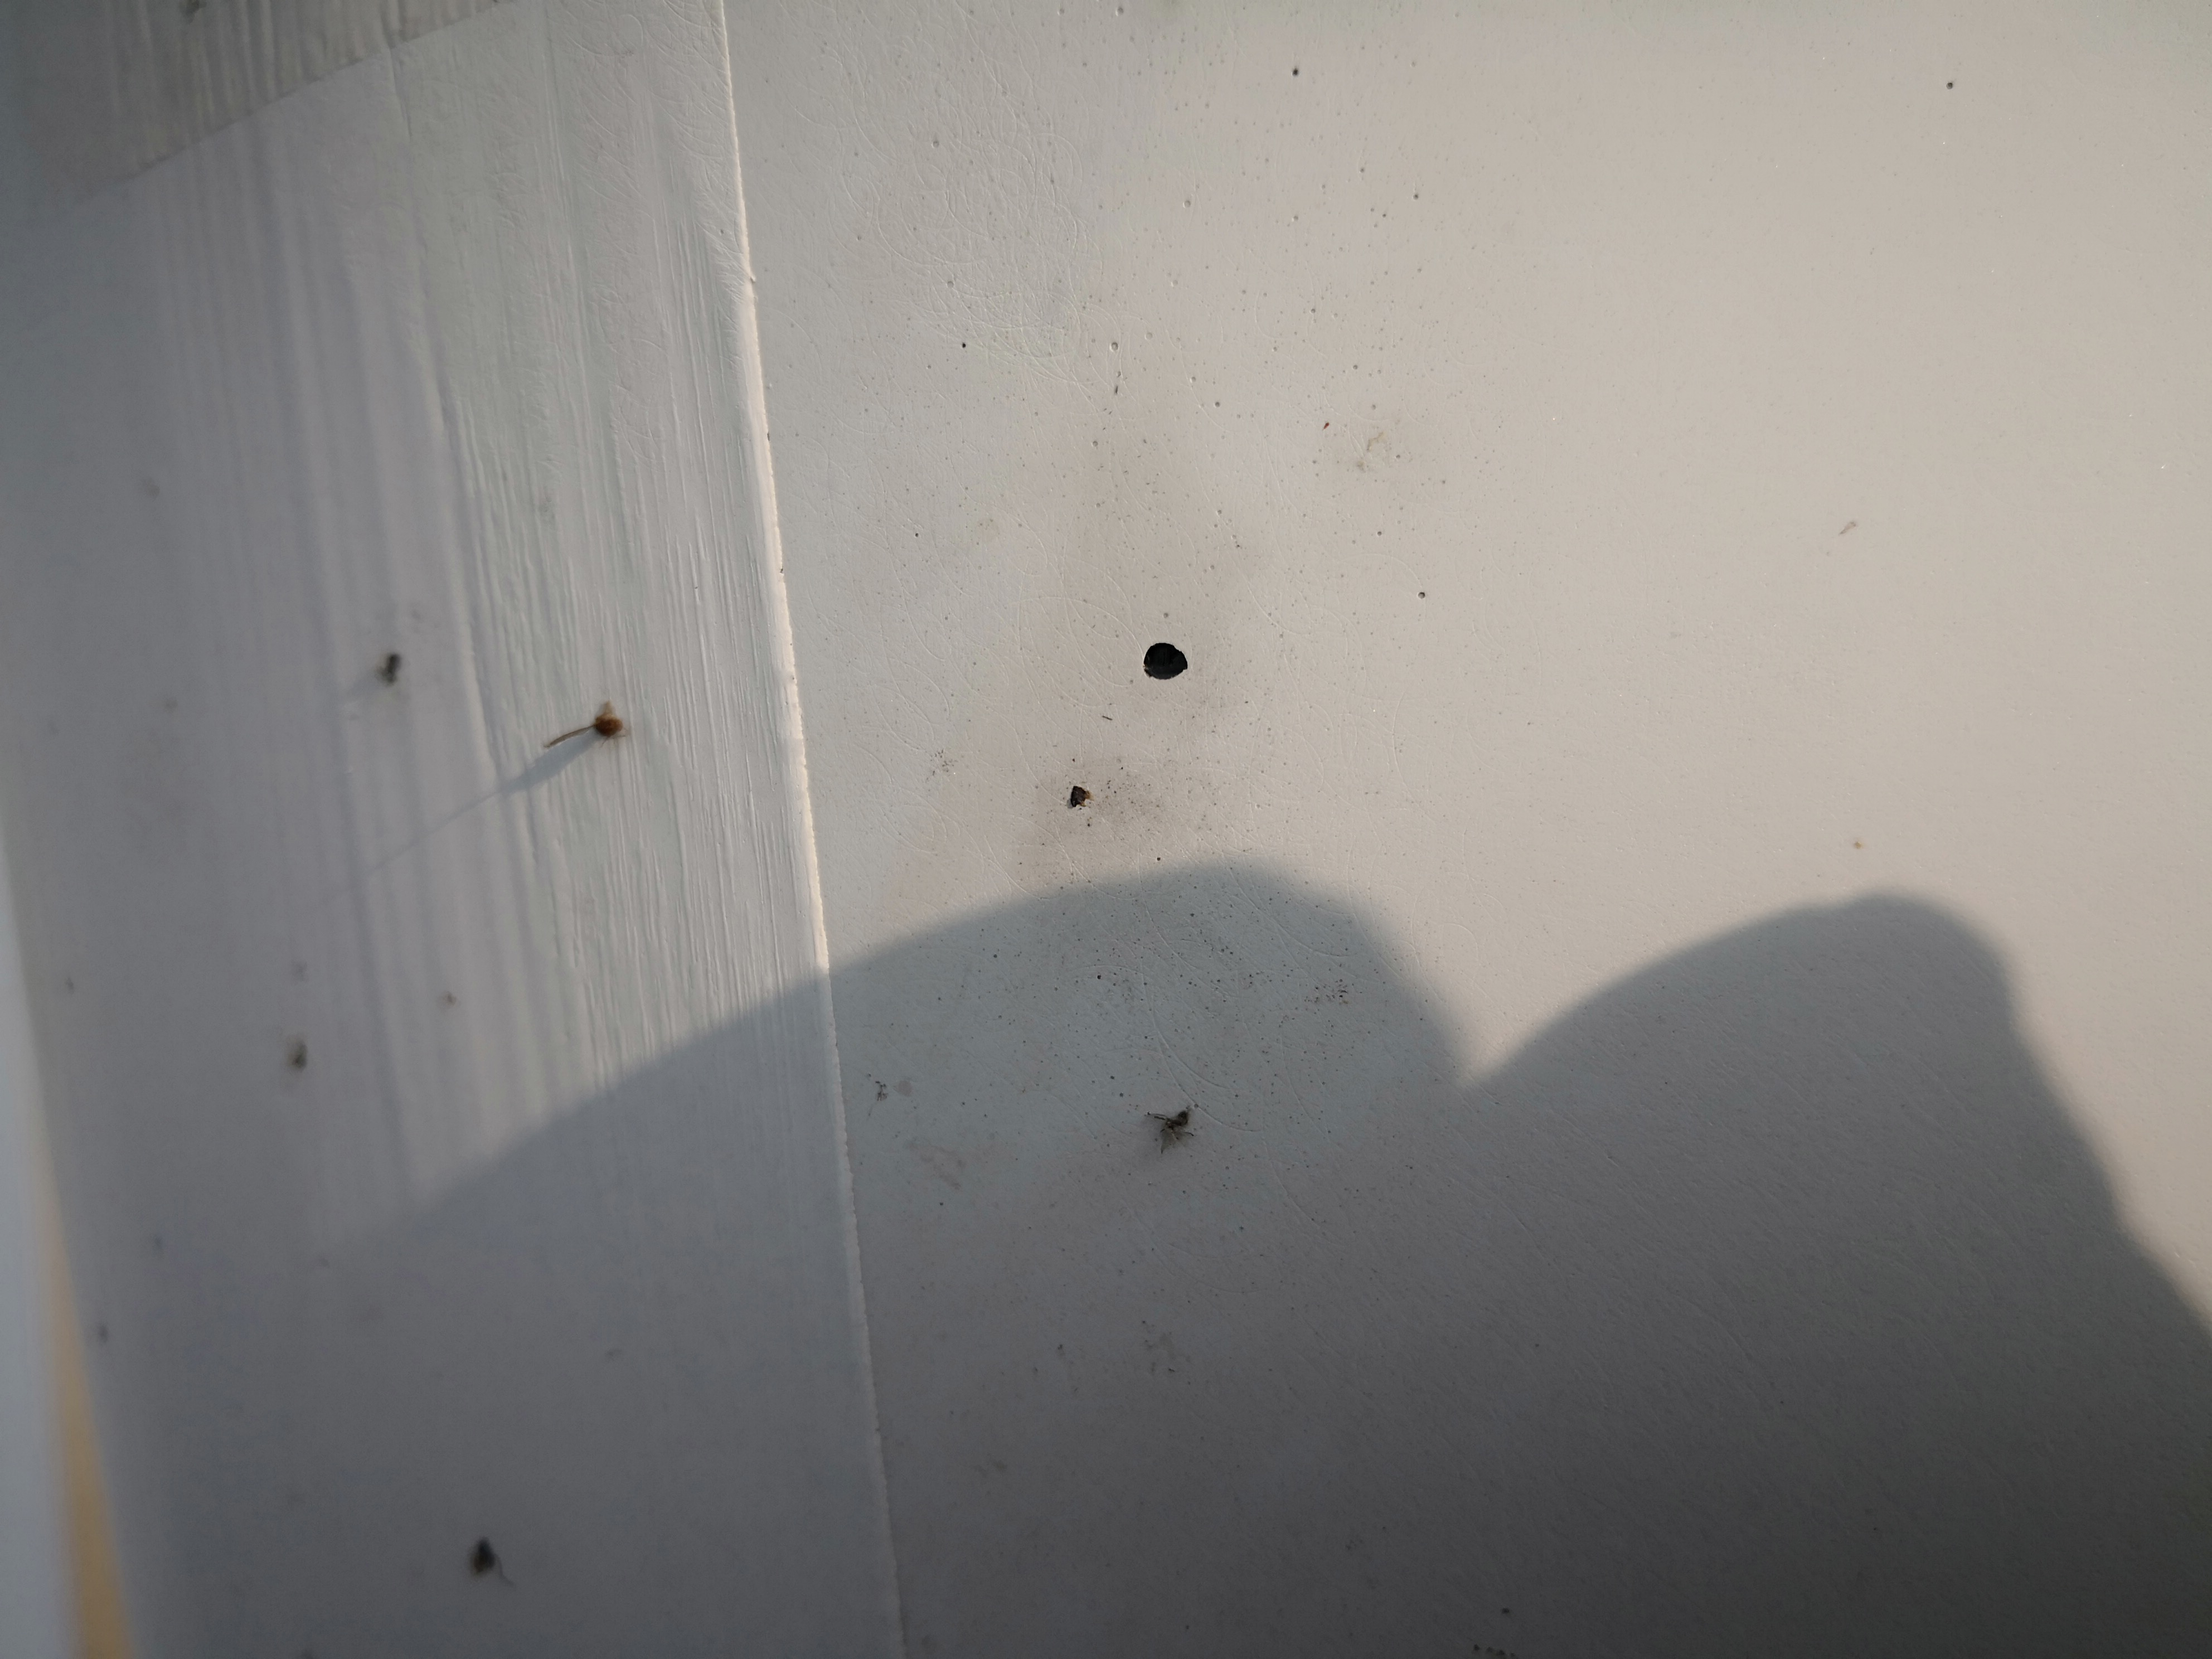Dirt: (582, 708, 644, 777), (1141, 1098, 1212, 1154), (1052, 789, 1106, 817)
SD: (1130, 634, 1204, 694)
